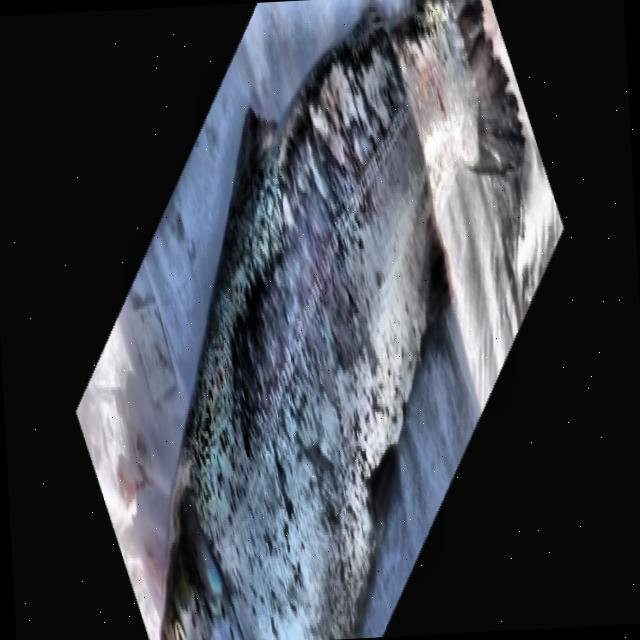mild_red: (161, 0, 478, 640)
